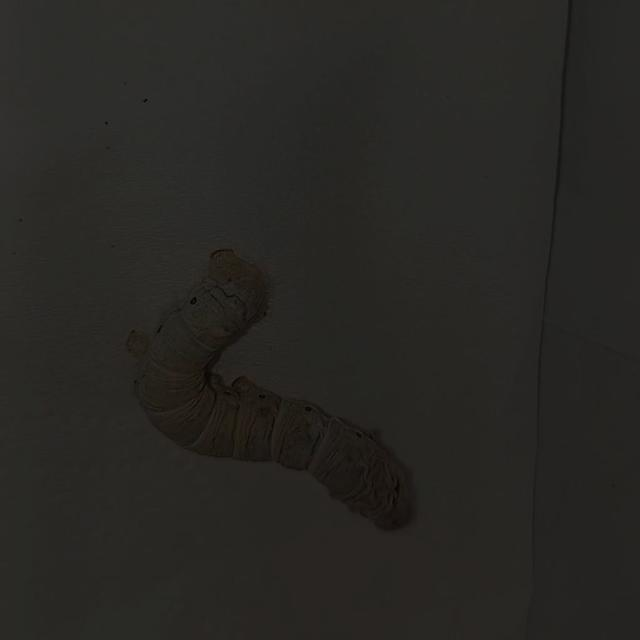Healthy: (108, 230, 456, 556)
